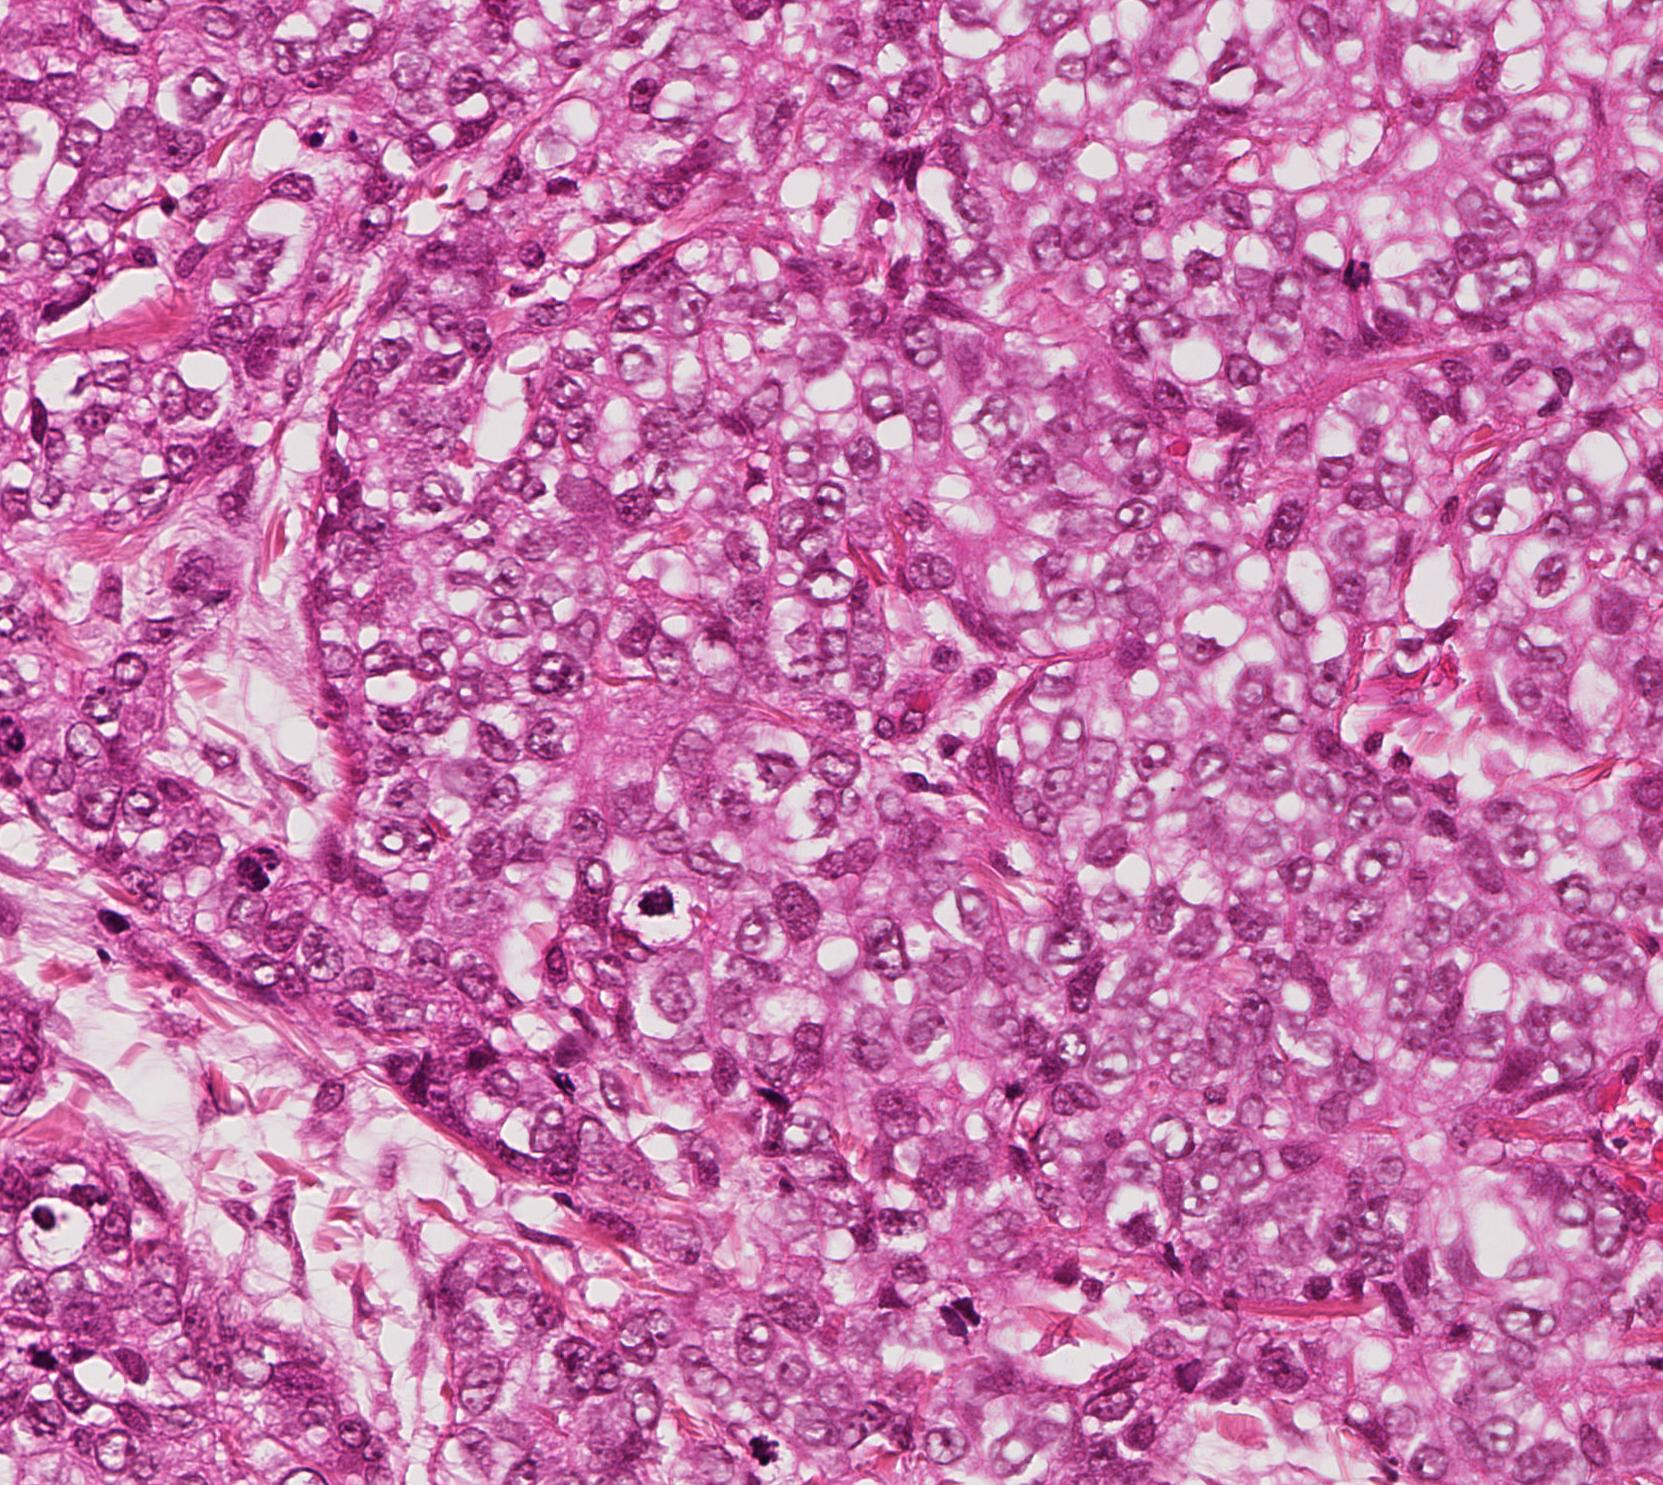mitosis: (637, 872, 695, 932)
